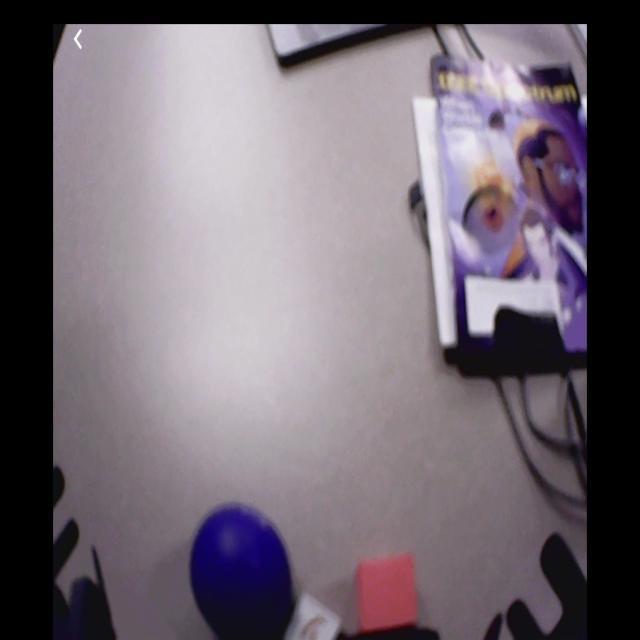ball: (190, 508, 292, 636)
